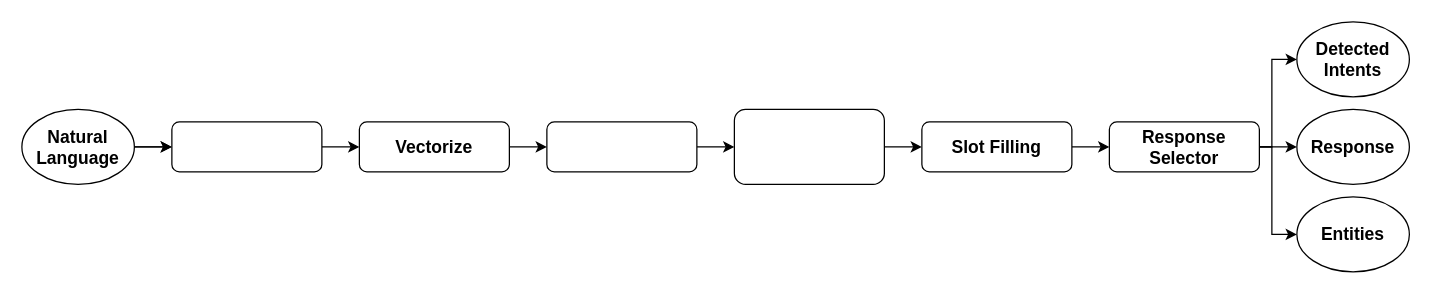
Some shapes in this 1431 by 294 pixel diagram are drawn without their labels. The centre of each missing label's shape, as x and y in pixels:
"Featurize" belongs at pixel 621 146.
"Intent Detection & Entity Extraction" belongs at pixel 808 146.
"Tokenize" belongs at pixel 246 146.
